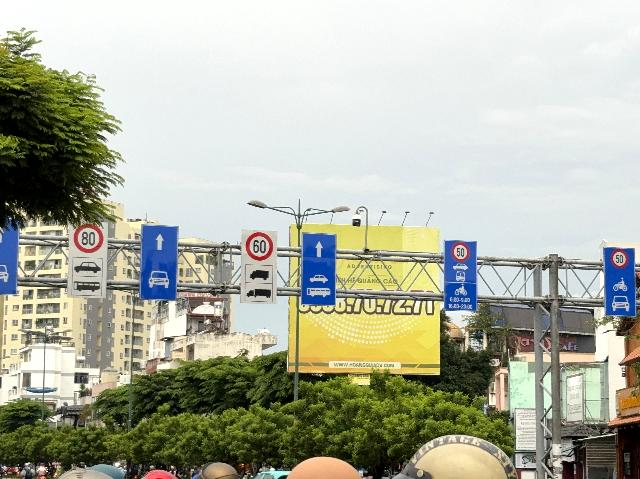toc-do-toi-da-cho-phep: (73, 223, 104, 254), (245, 232, 274, 261), (450, 242, 471, 262), (611, 248, 629, 270)
